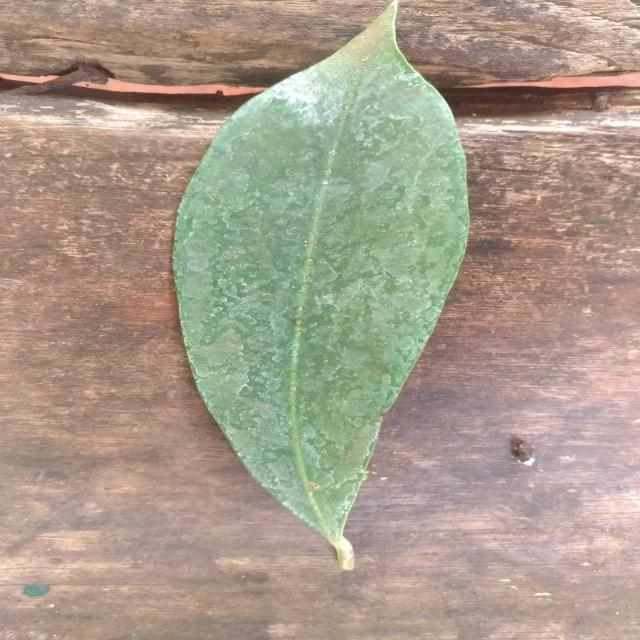nerale: (173, 4, 469, 570)
